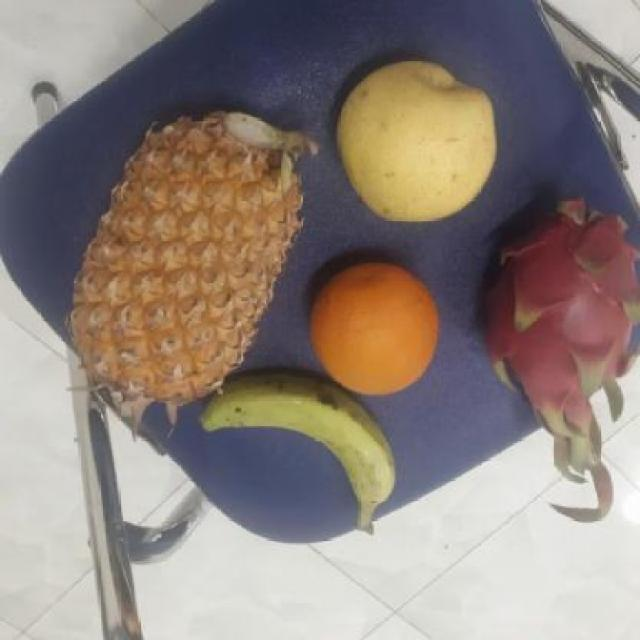banana: (198, 377, 392, 532)
dragon fruit: (469, 189, 640, 440)
guava: (332, 62, 500, 222)
oren: (300, 261, 448, 401)
pineapple: (63, 109, 314, 403)
